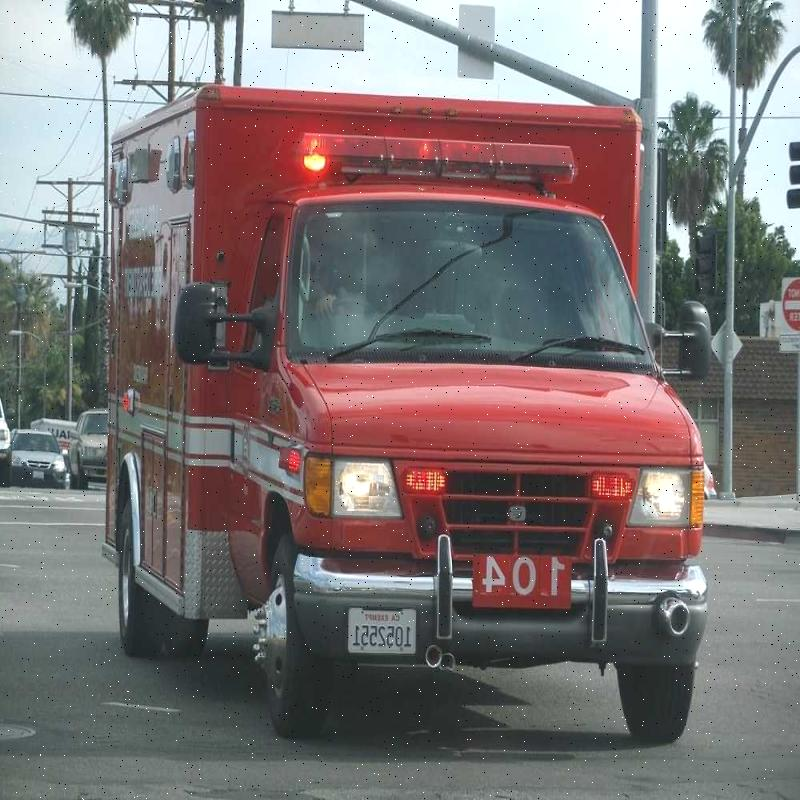AmbulanceSiren: (246, 127, 585, 202)
